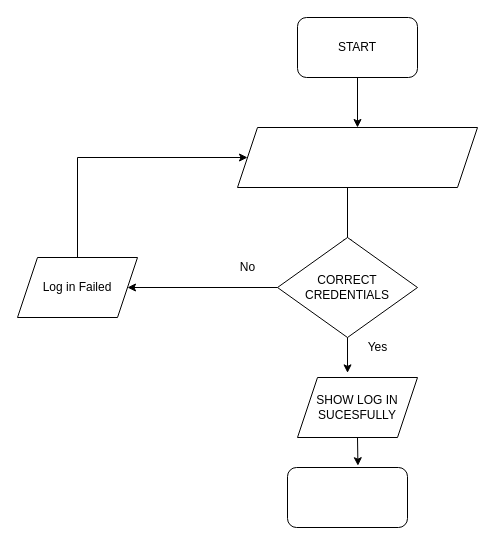
Some shapes in this 495 by 545 pixel diagram are drawn without their labels. The box of each missing label's shape, as (x1, y1, x2, y2) in pixels:
INPUT USERNAME & PASSWORD: (236, 126, 478, 188)
STOP: (286, 466, 408, 528)
